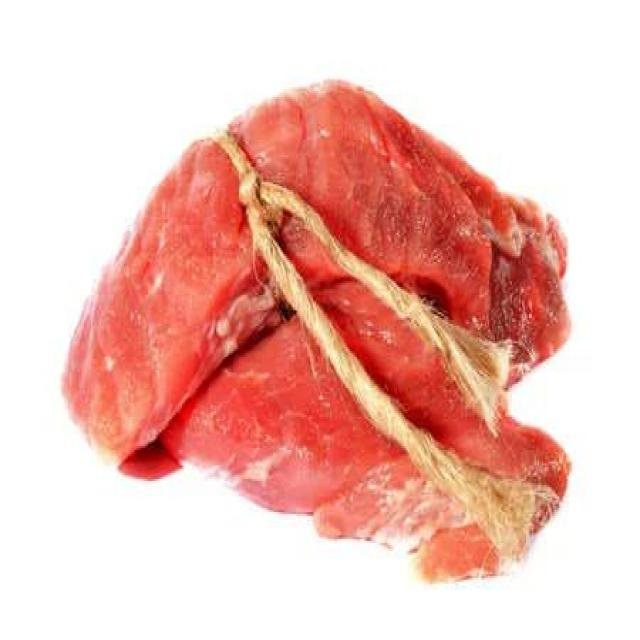Pork: (70, 135, 569, 559)
